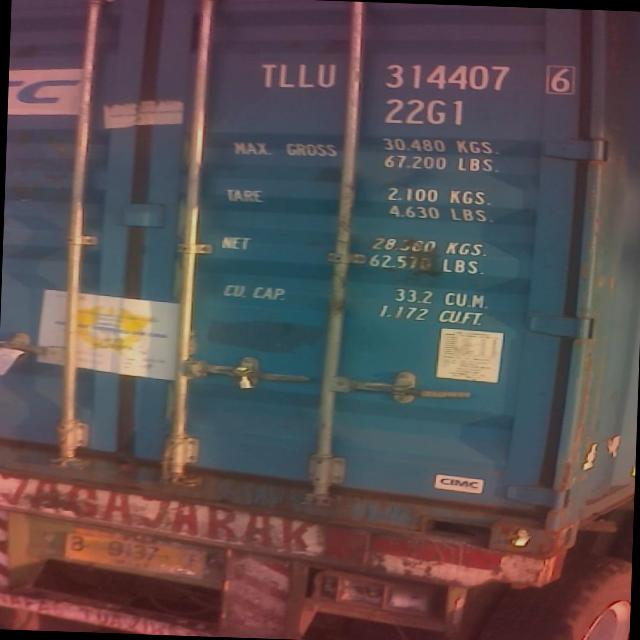seal: (228, 363, 264, 392)
